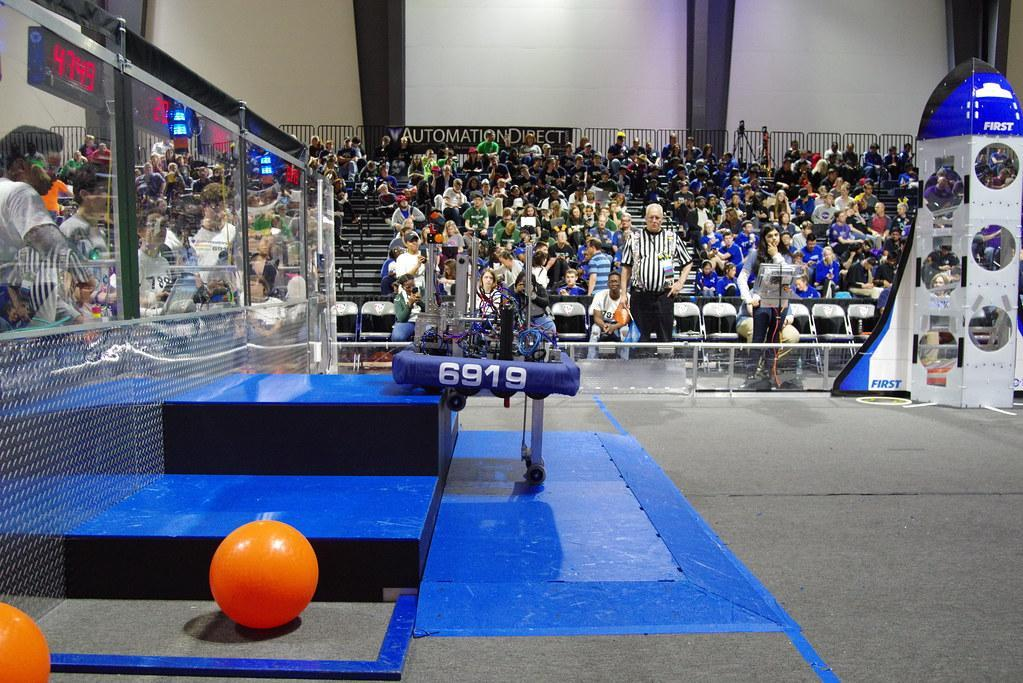robot: (392, 212, 587, 500)
